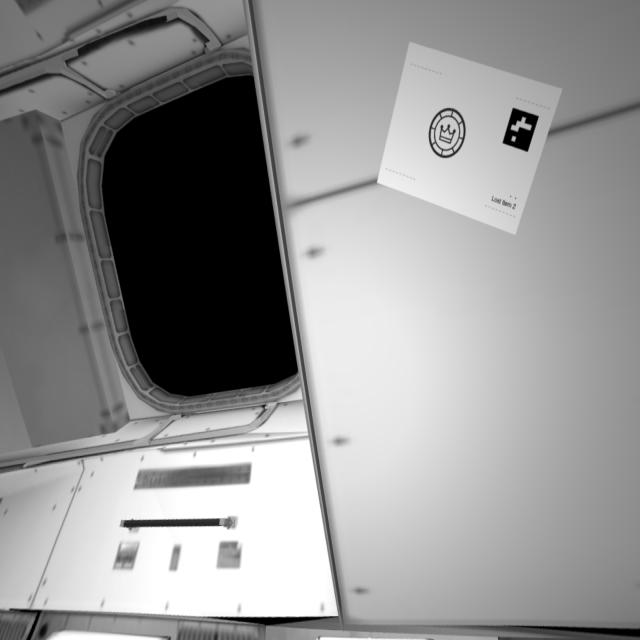coin: (424, 100, 467, 163)
